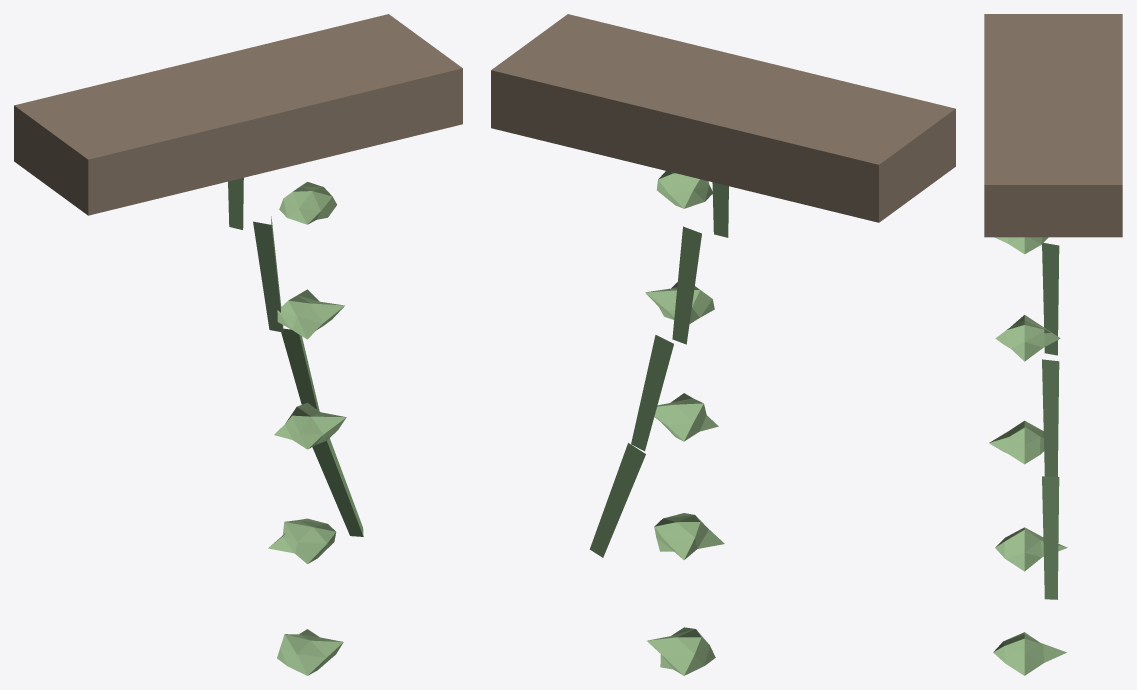
Rendered from vine_v35.glb.
3 views of the same model, side by side, from view 1: azimuth 30°, elevation 25°; view 2: azimuth 150°, elevation 25°; view 3: azimuth 270°, elevation 25° (orthographic). The views are drawn at different scales.
Visible parts, largest first — view 1: lod0; view 2: lod0; view 3: lod0.
Boxes of the visible parts, box(x1,y1,x2,y2) form: lod0: box(14, 14, 462, 675); lod0: box(491, 14, 955, 675); lod0: box(984, 14, 1122, 675).
Size of what is drawn, in the model's own units: 0.7 by 1.05 by 0.24.
